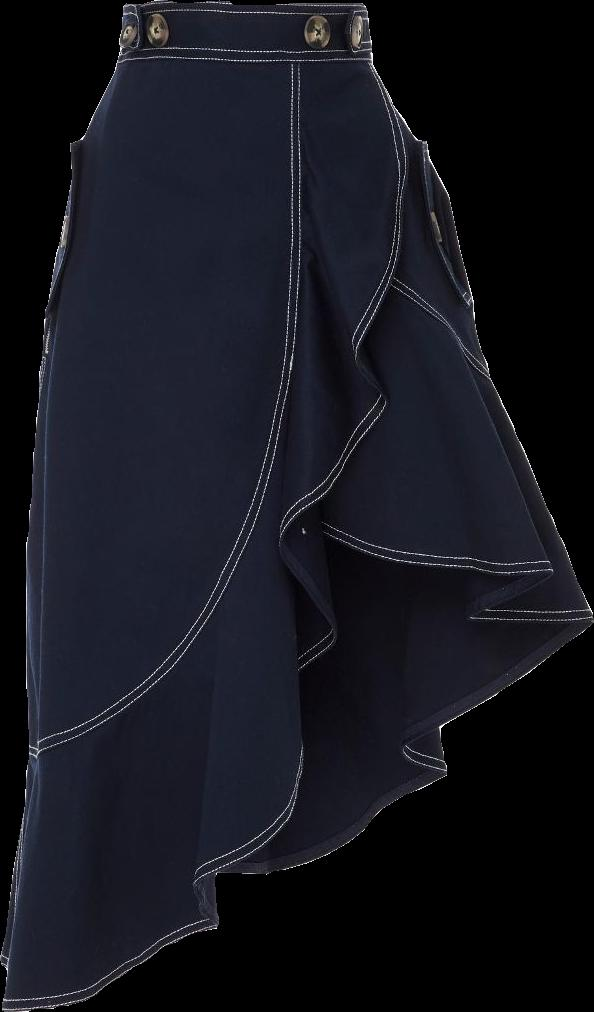Hemline: (0, 64, 405, 1011), (308, 517, 593, 626)
Waistline: (26, 58, 305, 759), (114, 46, 369, 65), (120, 0, 373, 16)
